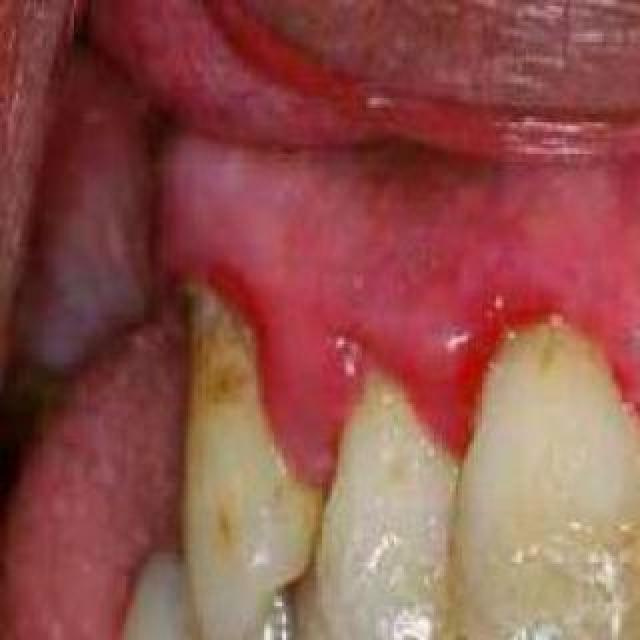calculus: (486, 626, 582, 640), (598, 630, 640, 640)
missing: (28, 210, 140, 442), (82, 236, 164, 474), (131, 259, 205, 521), (2, 610, 114, 640)
